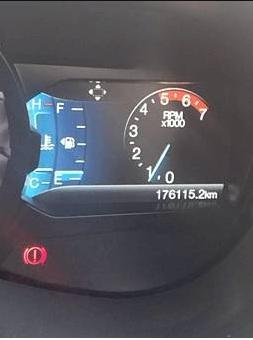-: (196, 196, 198, 199)
1: (156, 189, 161, 201), (176, 189, 181, 200), (182, 189, 187, 200)
2: (198, 189, 205, 200)
5: (188, 189, 195, 200)
6: (169, 189, 176, 200)
7: (162, 189, 168, 200)
X: (210, 192, 218, 200), (205, 190, 210, 200)
odometer: (153, 187, 219, 202)
